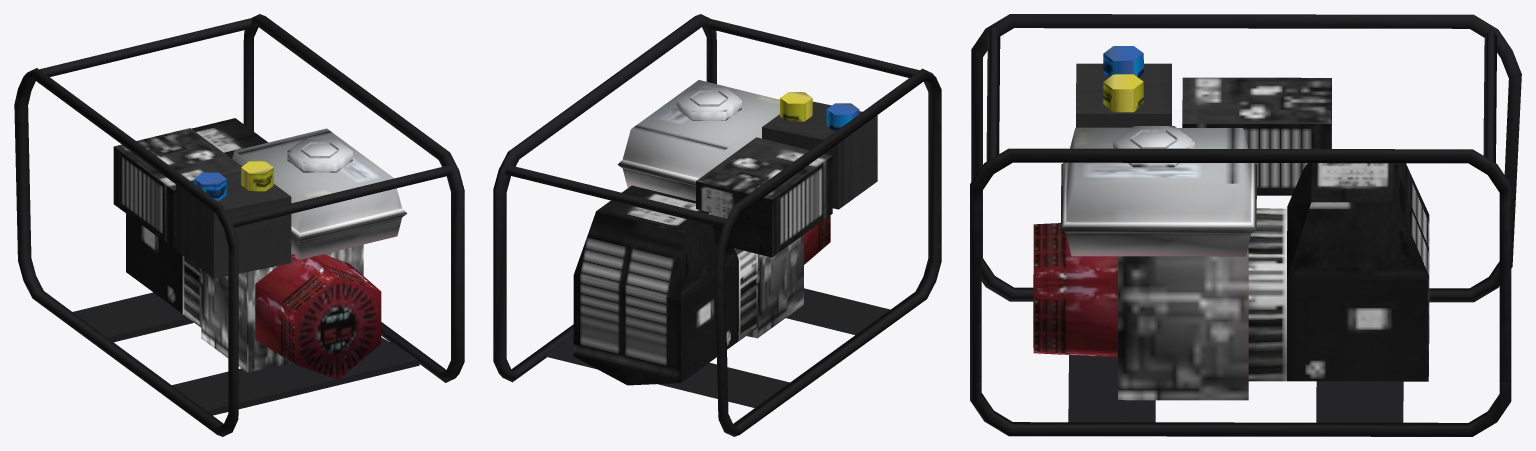
File: powerGenerator.fbx
3 renders of one model, left to right at view 1: azimuth 30°, elevation 25°; view 2: azimuth 150°, elevation 25°; view 3: azimuth 270°, elevation 25°, orthographic. The views are drawn at different scales.
Parts seen in each view (by area): view 1: PRP_LightGenerator_01; view 2: PRP_LightGenerator_01; view 3: PRP_LightGenerator_01.
Part boxes in pixels (<box>): PRP_LightGenerator_01: <box>14,14,464,436</box>; PRP_LightGenerator_01: <box>493,14,941,436</box>; PRP_LightGenerator_01: <box>970,14,1521,436</box>.
Size of the model in its own units: 33.51 by 31.74 by 55.18.
